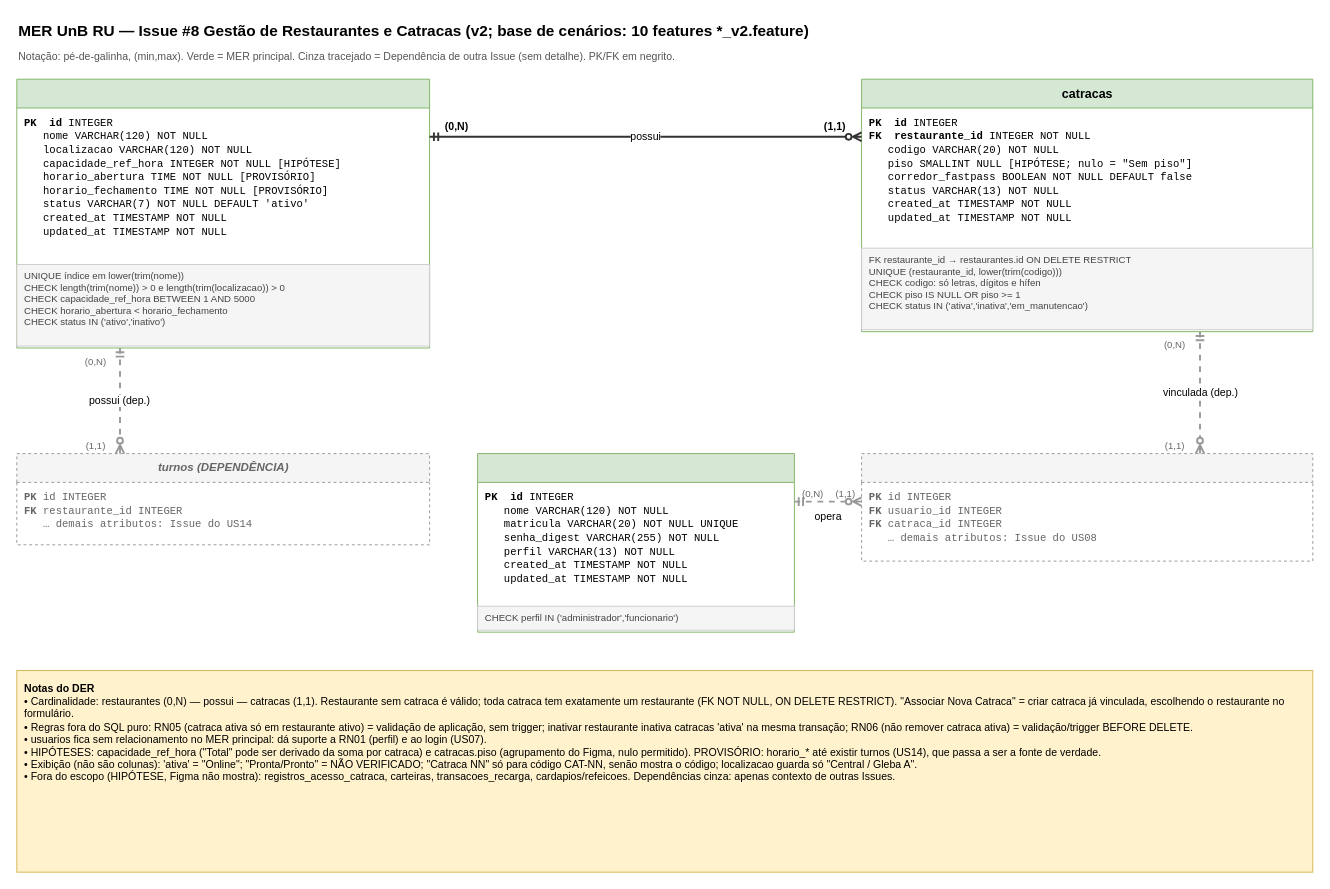
This 1330x889 diagram has some shape labels left out. The box of each missing label's shape, as (x1, y1, x2, y2) in pixels:
restaurantes: (16, 78, 430, 348)
usuarios: (477, 453, 794, 632)
vinculos_operador_catraca (DEPENDÊNCIA): (861, 453, 1313, 561)
